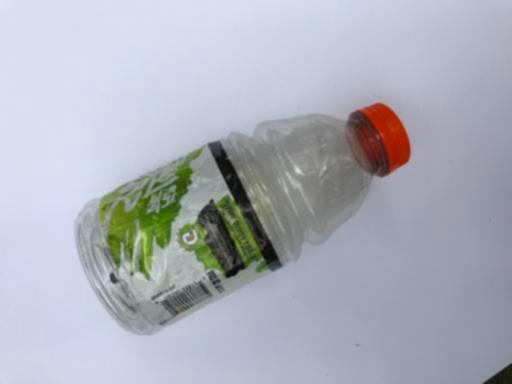PET: (73, 103, 410, 338)
juice: (73, 103, 410, 338)
plastic: (73, 103, 410, 338)
